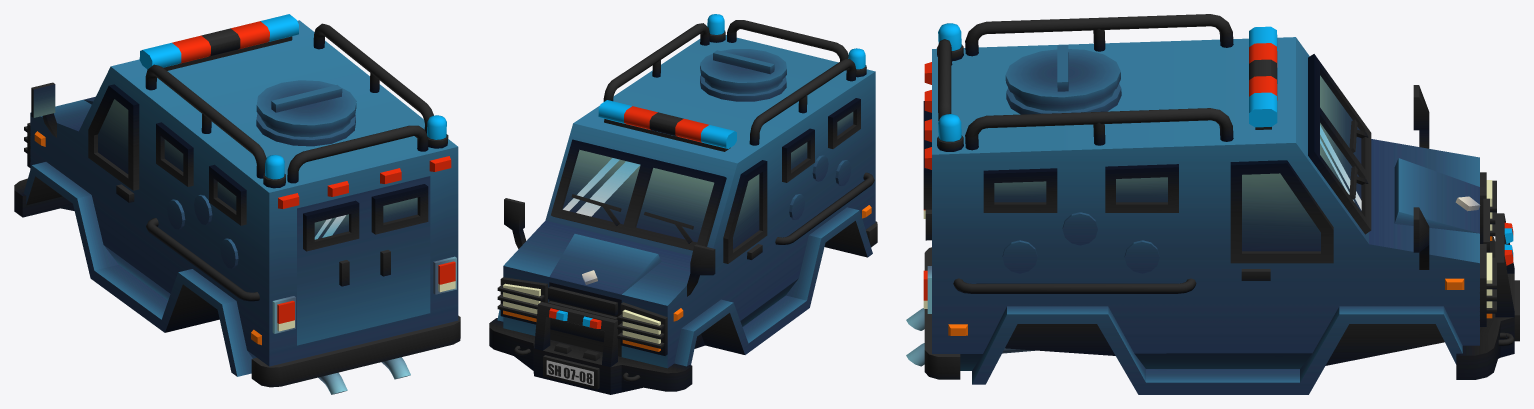
The model's file is car3.glb.
The picture shows the model from 3 angles, left to right: view 1: azimuth 30°, elevation 25°; view 2: azimuth 150°, elevation 25°; view 3: azimuth 270°, elevation 25°; orthographic projection. The views are drawn at different scales.
Parts seen in each view (by area): view 1: model_3.003; view 2: model_3.003; view 3: model_3.003.
Part boxes in pixels (x1,y1,x2,y2): model_3.003: [14, 14, 460, 394]; model_3.003: [489, 14, 877, 394]; model_3.003: [906, 14, 1519, 394].
Size of the model in its own units: 151 by 149 by 291.
1 material, 1 textured.
